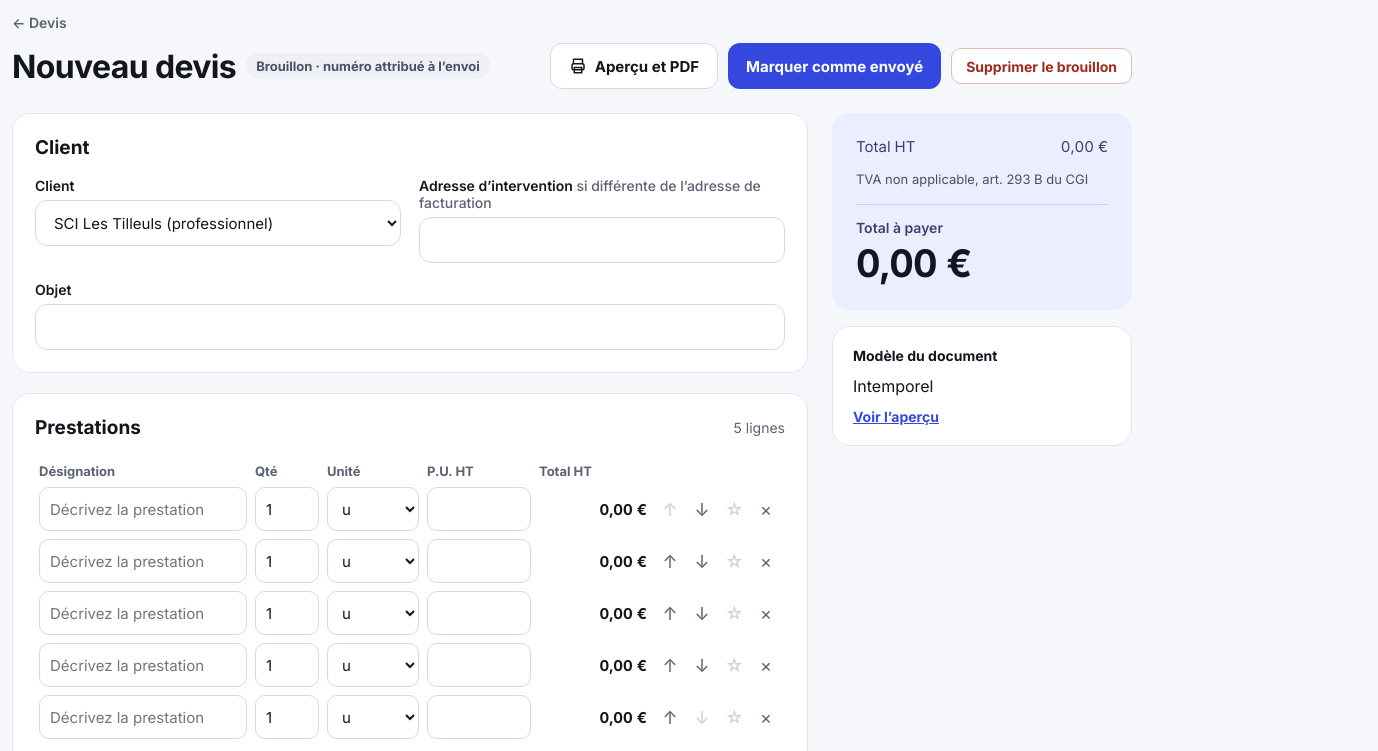
Test: bloque les actions de statut tant qu’un champ du devis est invalide, avec une indication
Expected: the button "Marquer comme envoyé" is enabled, top-left (728, 43), bottom-right (941, 89)
Expected: the text "Corrigez les champs en rouge avant de continuer." is not shown
In the 1st field named "Prix unitaire HT en euros": (479, 509) top-left (427, 487), bottom-right (531, 531), type "12,345"
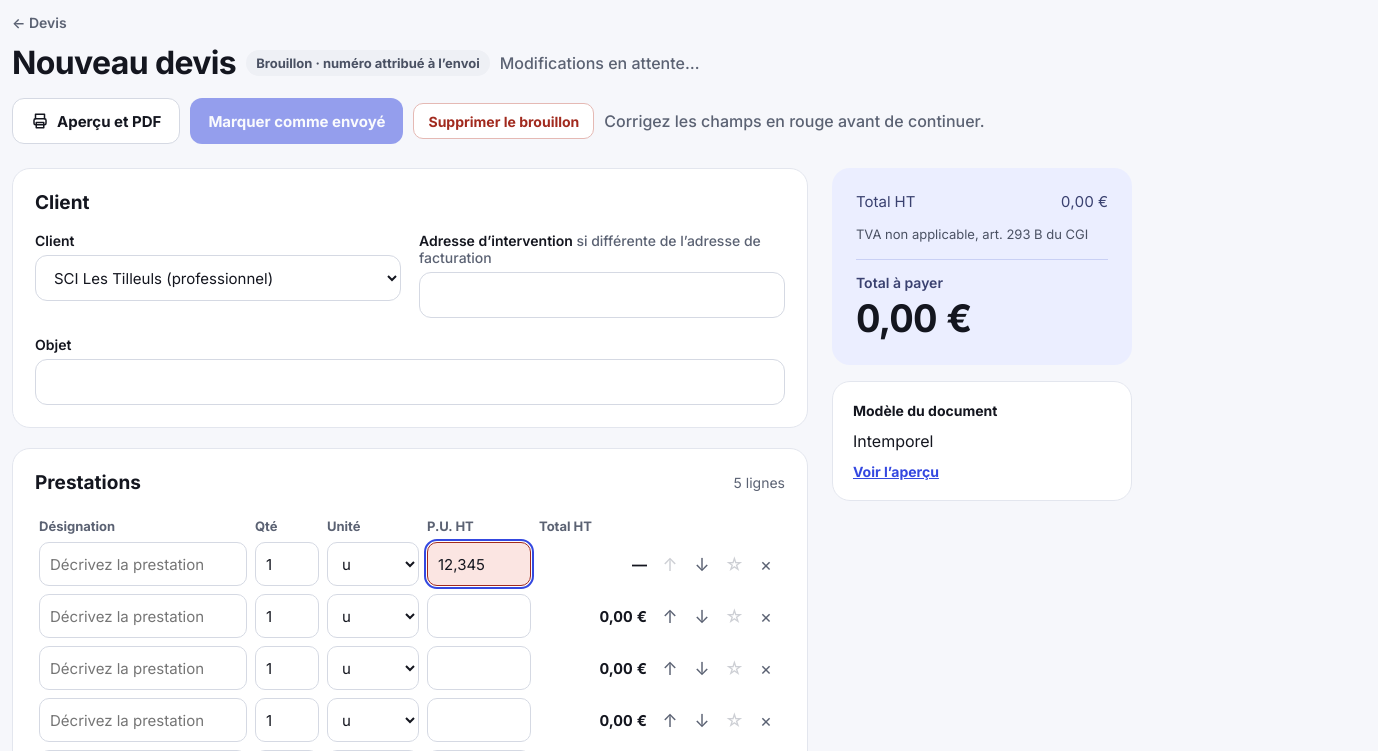
Expected: the button "Supprimer le brouillon" is enabled, top-left (414, 103), bottom-right (594, 139)
Result: the button "Marquer comme envoyé" is disabled at top-left (190, 98), bottom-right (404, 144)
Result: the text "Corrigez les champs en rouge avant de continuer." is shown at top-left (604, 111), bottom-right (985, 131)
